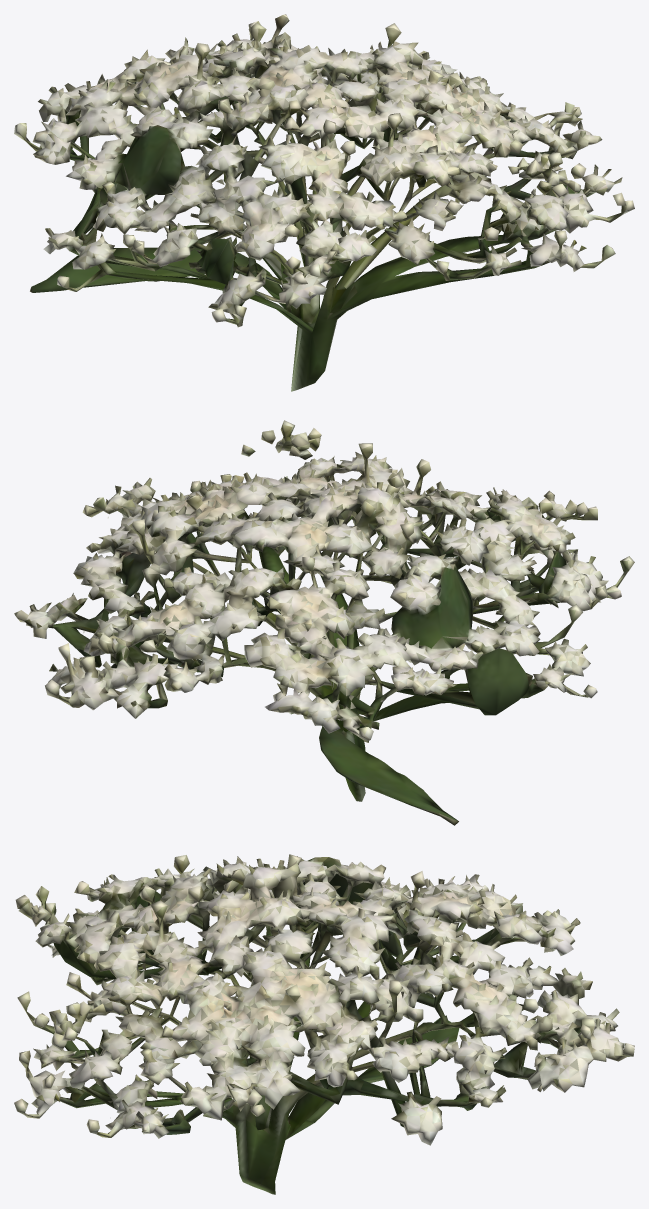
The model's file is elderflower_decimated.obj.
The picture shows the model from 3 angles, top to bottom: view 1: azimuth 30°, elevation 25°; view 2: azimuth 150°, elevation 25°; view 3: azimuth 270°, elevation 25°; orthographic projection. The views are drawn at different scales.
Visible parts, largest first — view 1: Meshy_AI_Elderflower_0210154048_texture; view 2: Meshy_AI_Elderflower_0210154048_texture; view 3: Meshy_AI_Elderflower_0210154048_texture.
Boxes of the visible parts, left/top/right/bottom form: Meshy_AI_Elderflower_0210154048_texture: left=14, top=14, right=634, bottom=391; Meshy_AI_Elderflower_0210154048_texture: left=14, top=420, right=634, bottom=825; Meshy_AI_Elderflower_0210154048_texture: left=14, top=854, right=634, bottom=1194.
Size of the model in its own units: 2 by 1.15 by 2.
